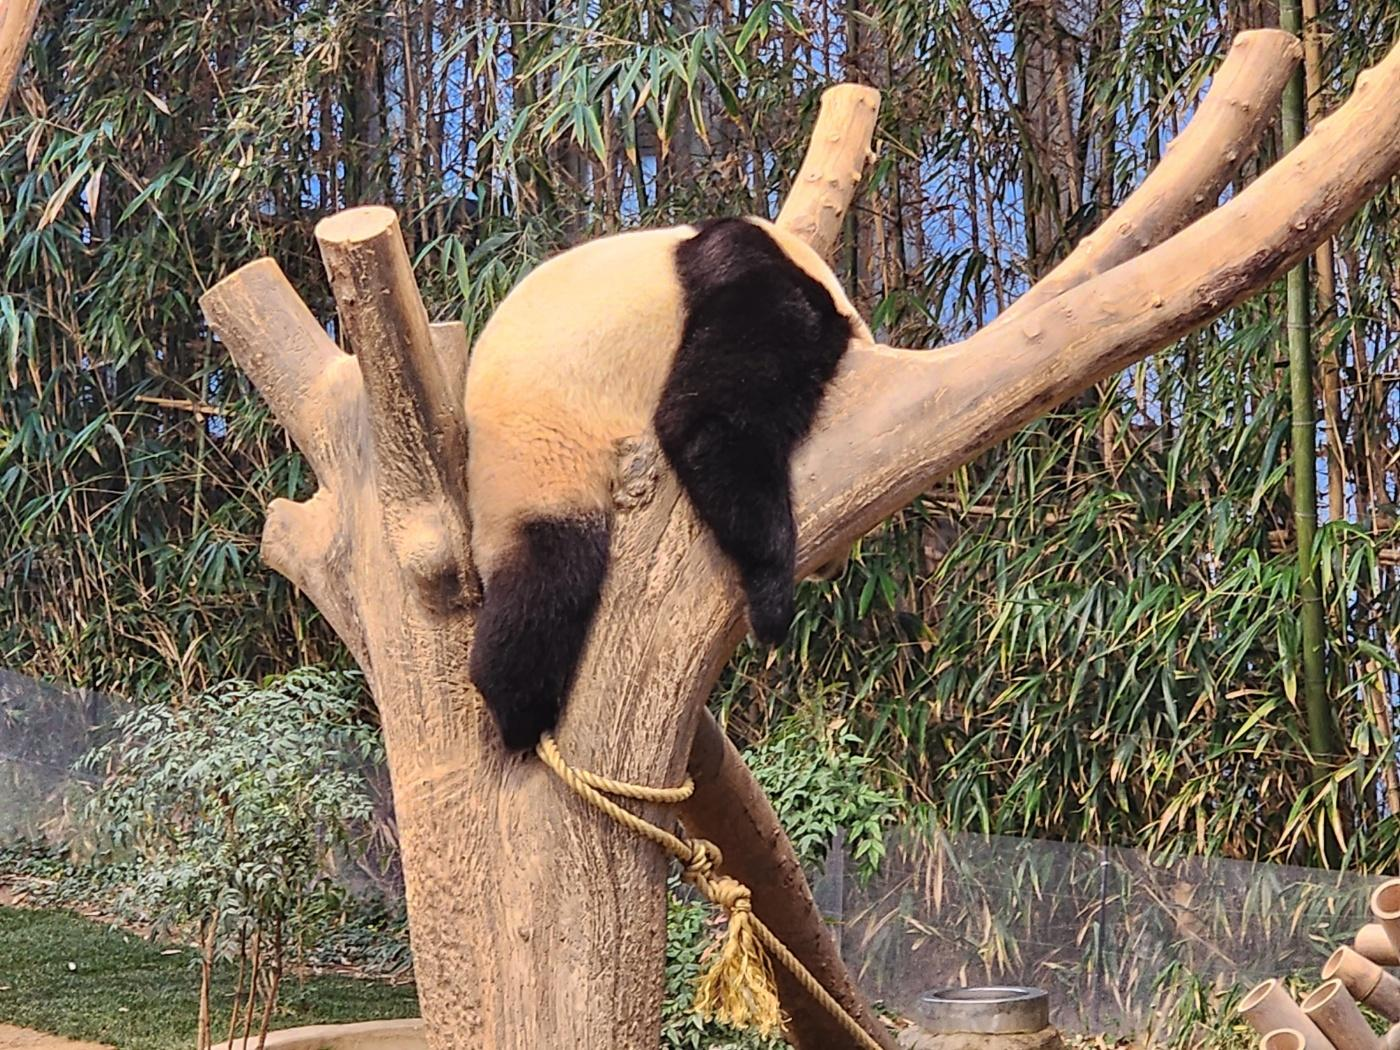panda: (460, 212, 873, 752)
